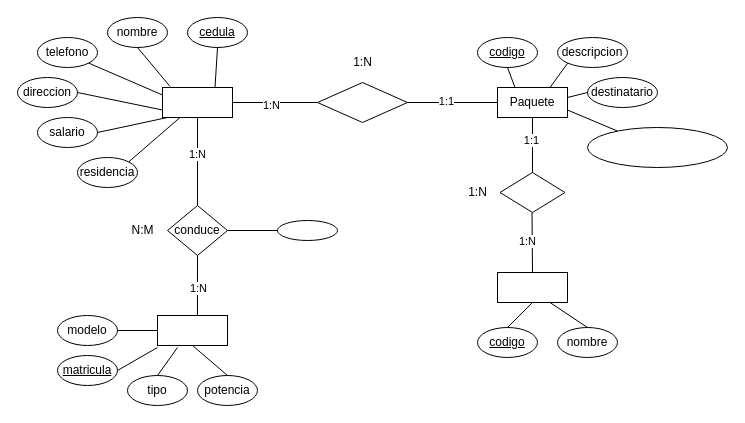
Image size: 745x423. Some labels were removed from this diagram. Here are the shapes that lost their labels. From the top down, the centre of each, then its label:
At (197,102): "Camionero".
At (362,102): "distribuye".
At (657,147): "direccion_destinatario".
At (532,192): "llega".
At (307,230): "fecha".
At (532,287): "Provincia".
At (192,330): "Camion".
